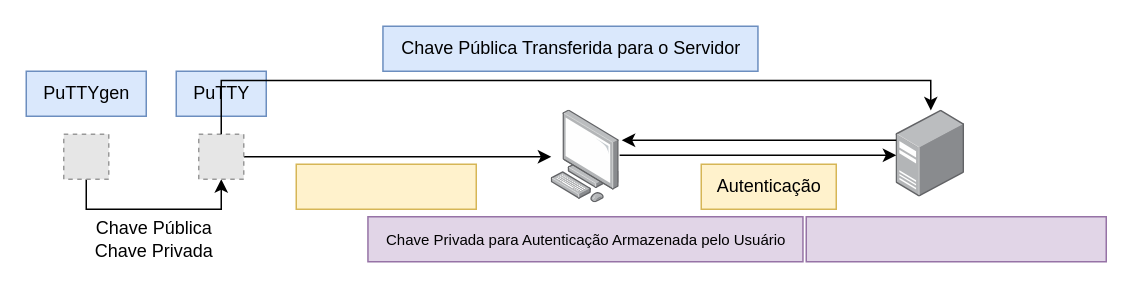
Image size: 1133x296. Some labels were removed from this diagram. Grey dashed boxes stand in for pictures. The shapes that lost their labels are listed below. From the top down, each one's centre as x and y in pixels, then its label:
At pixel 385 186: "Sessão do PuTTY".
At pixel 955 238: "Chave Pública Armazenada no Servidor".
